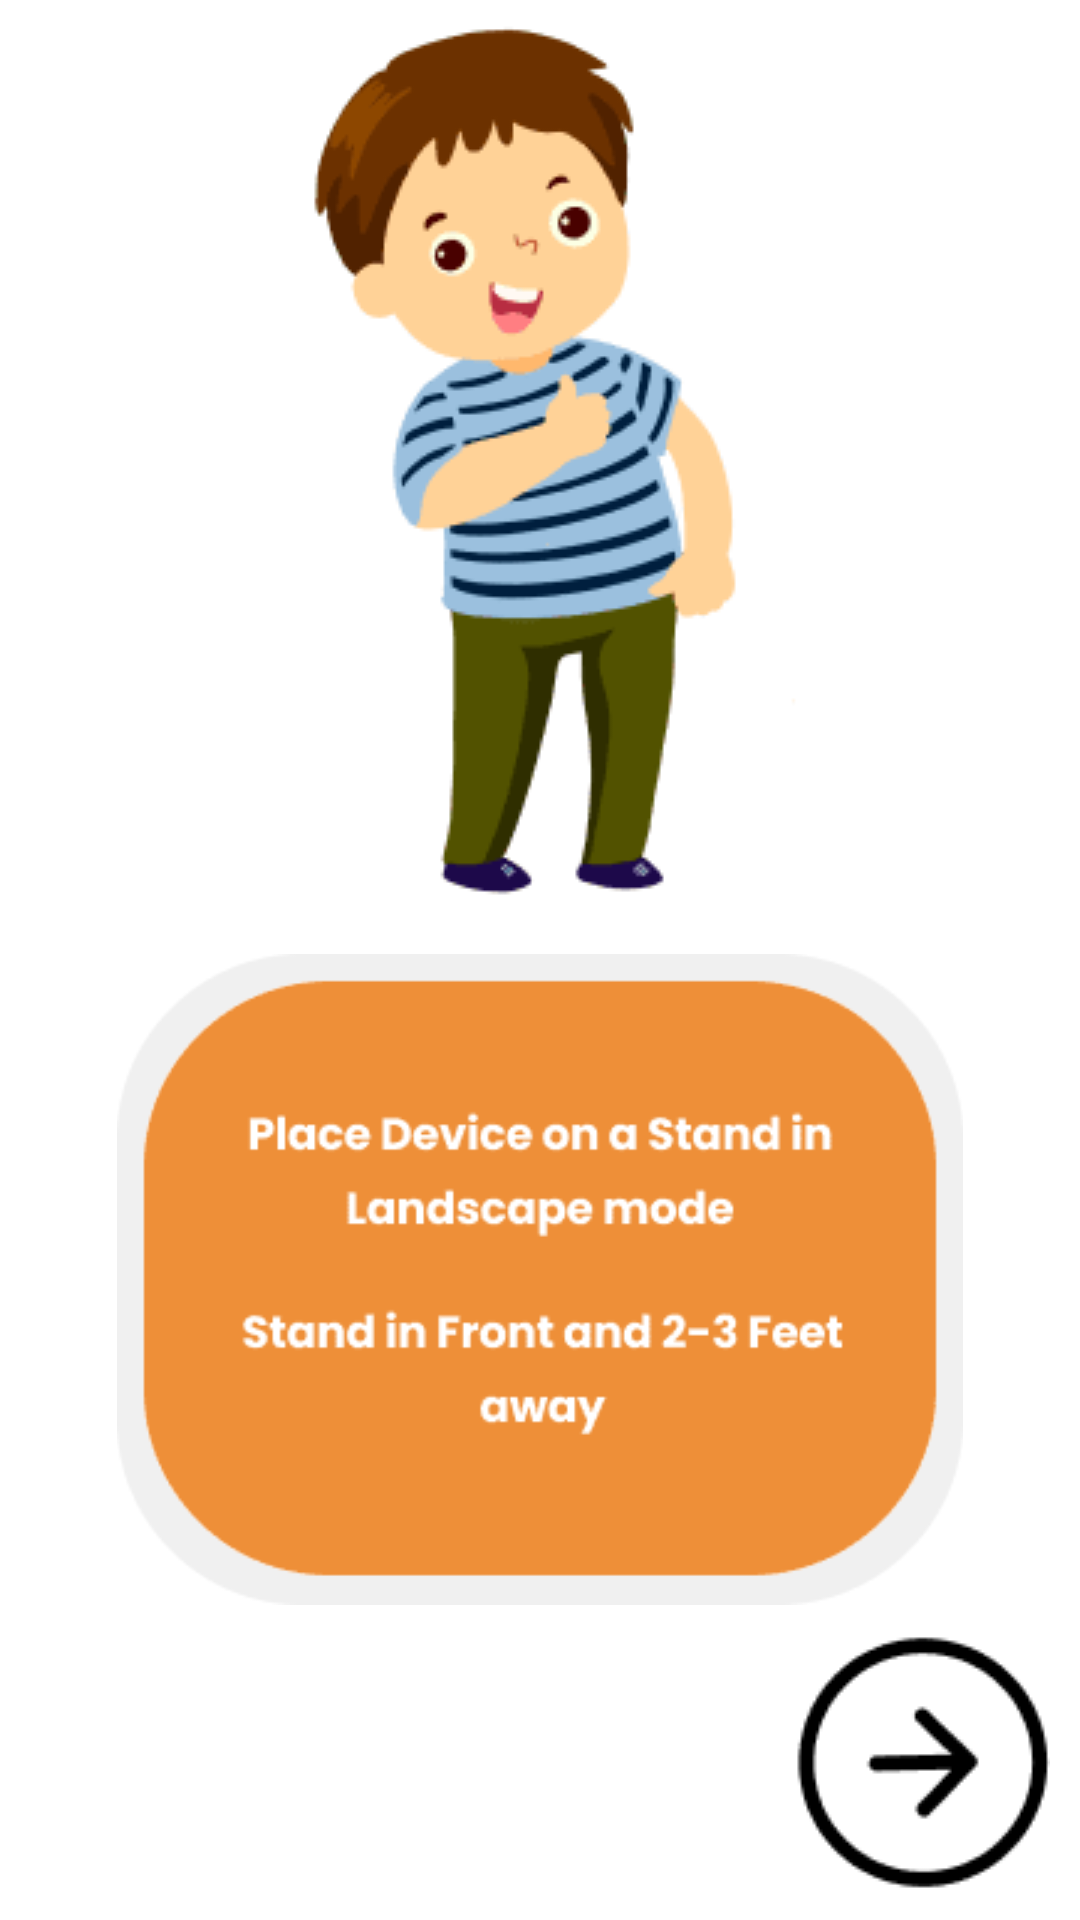

Named icons in this screenshot (1080px x 1920px) and their centers, point (x, y):
nexticon: point (923, 1762)
